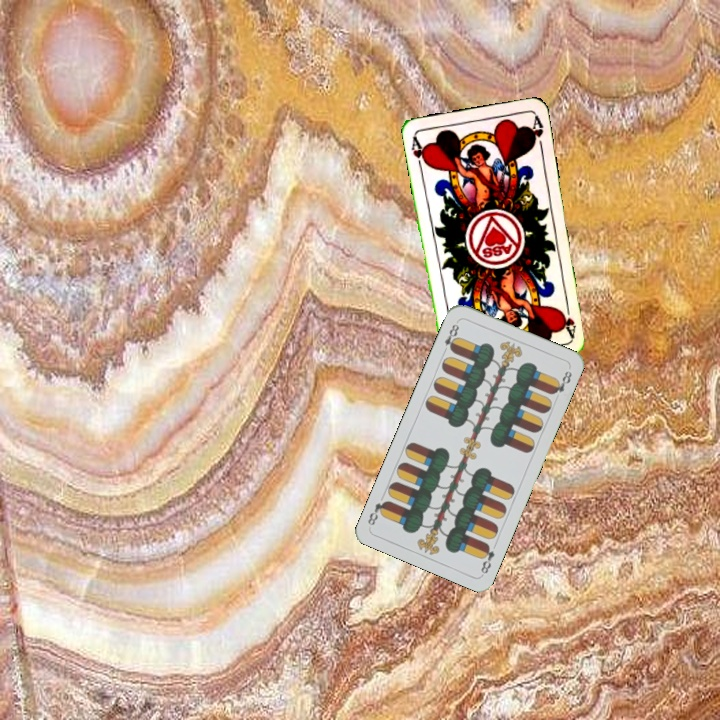E8: (439, 317, 462, 356), (477, 540, 497, 576)
HA: (407, 132, 430, 172), (557, 298, 579, 338)
